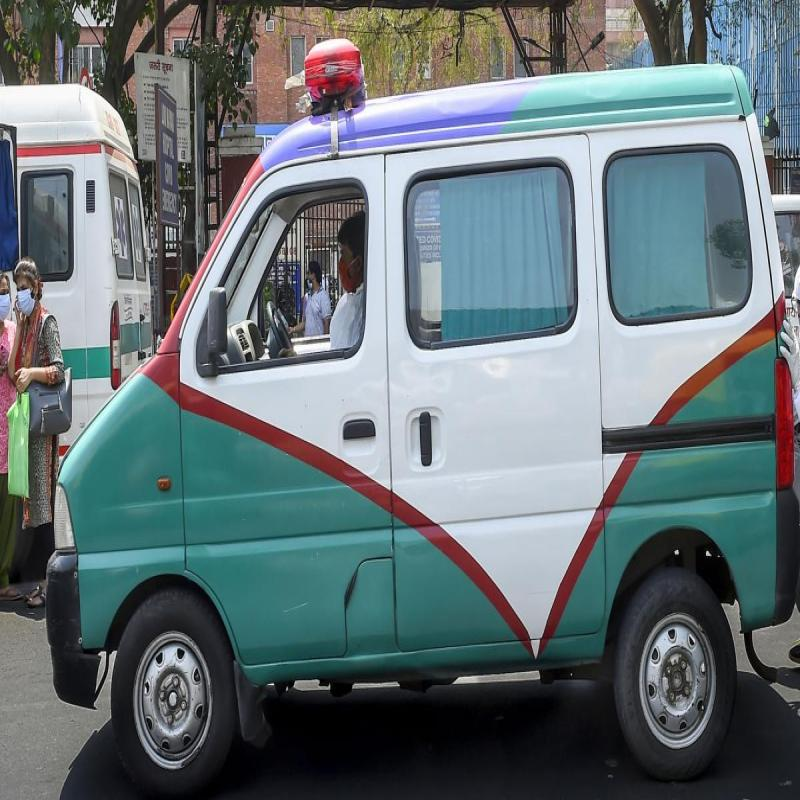ambulance: (53, 51, 780, 762)
